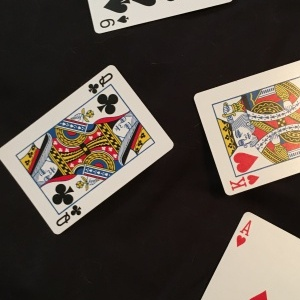card: (1, 63, 175, 237)
